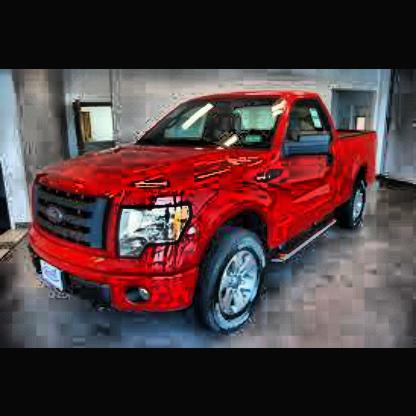Ford F-150 Regular Cab 2012: (30, 87, 383, 343)
